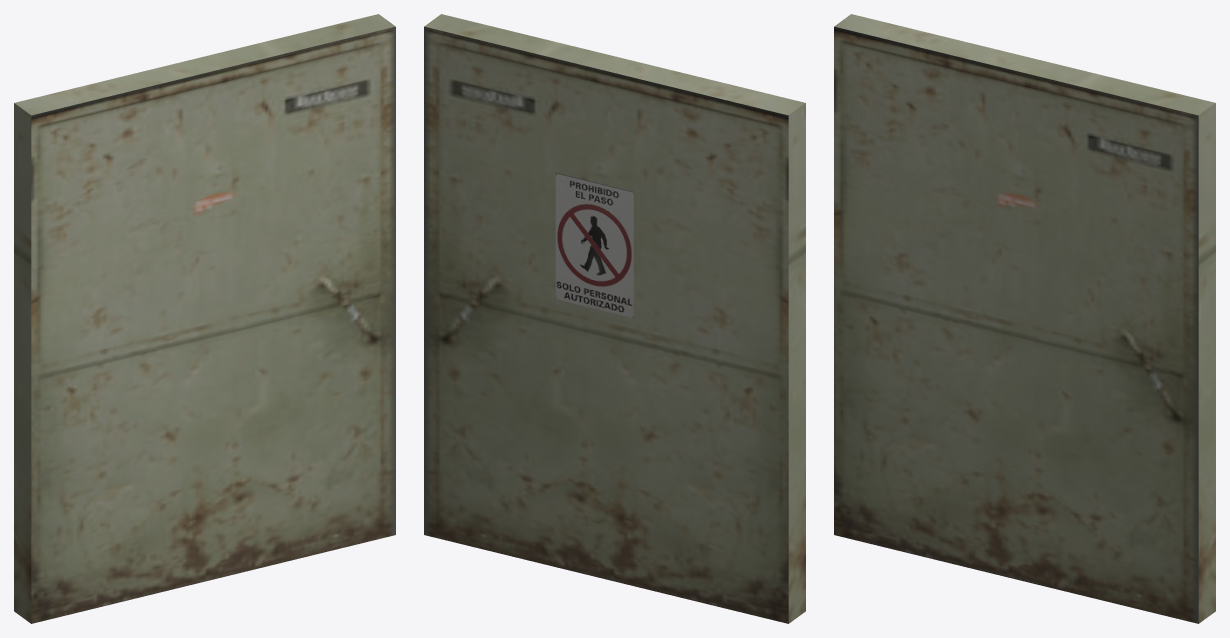
File: Corridor_00_Door_00.fbx
The picture shows the model from 3 angles, left to right: view 1: azimuth 30°, elevation 25°; view 2: azimuth 150°, elevation 25°; view 3: azimuth 330°, elevation 25°; orthographic projection.
Parts seen in each view (by area): view 1: Corridor_00_Door_00; view 2: Corridor_00_Door_00, Corridor_00_00.010; view 3: Corridor_00_Door_00.
Part boxes in pixels (bbox=[...]): Corridor_00_Door_00: bbox=[14, 14, 395, 623]; Corridor_00_Door_00: bbox=[424, 14, 805, 623]; Corridor_00_00.010: bbox=[555, 173, 633, 318]; Corridor_00_Door_00: bbox=[834, 14, 1215, 623].
Size of the model in its own units: 205 by 273 by 16.75.
